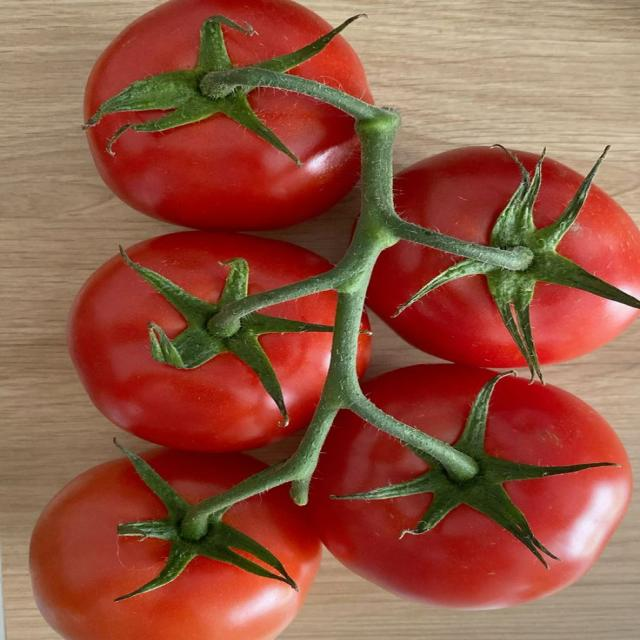tomato: (311, 378, 631, 608), (31, 458, 320, 639), (68, 256, 333, 451), (87, 89, 359, 230), (368, 242, 524, 366)
